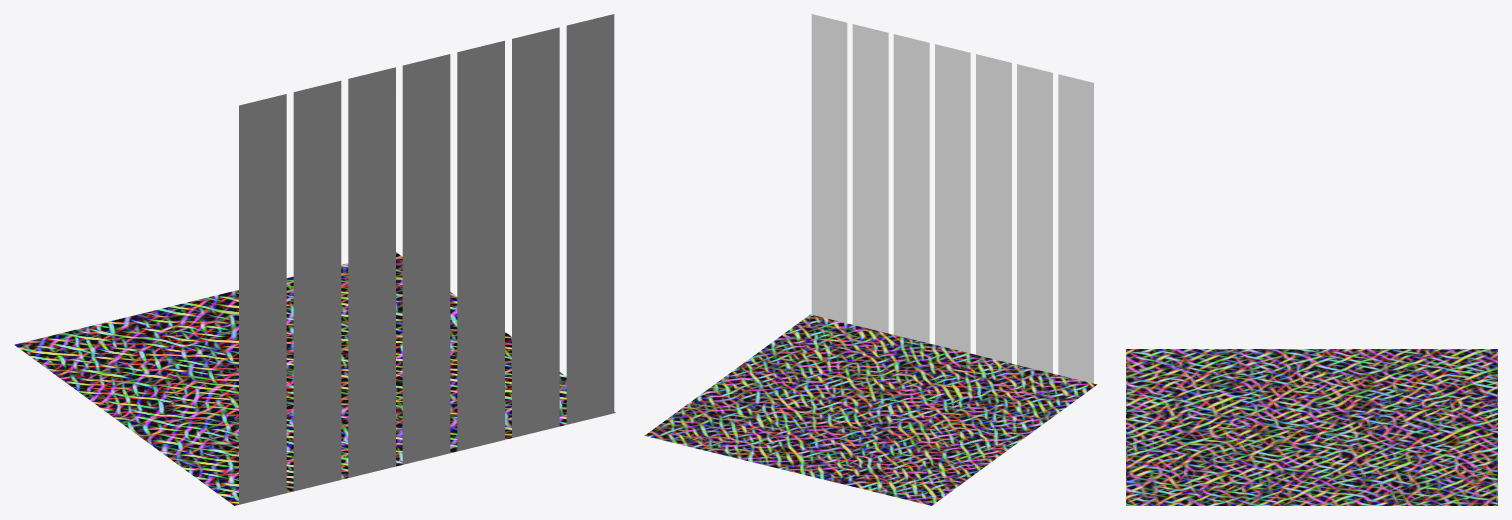
The model's file is glossy_planes.obj.
The picture shows the model from 3 angles, left to right: view 1: azimuth 30°, elevation 25°; view 2: azimuth 150°, elevation 25°; view 3: azimuth 270°, elevation 25°; orthographic projection. The views are drawn at different scales.
Visible parts, largest first — view 1: Floor_Plane, Plane0_Plane.002, Plane3_Plane.007, Plane5_Plane.010, Plane4_Plane.011, Plane2_Plane.006, Plane6_Plane.009, Plane1_Plane.004; view 2: Floor_Plane, Plane1_Plane.004, Plane2_Plane.006, Plane0_Plane.002, Plane3_Plane.007, Plane4_Plane.011, Plane5_Plane.010, Plane6_Plane.009; view 3: Floor_Plane.
Boxes of the visible parts, <box> form: Floor_Plane: <box>14,252,615,505</box>; Plane0_Plane.002: <box>566,14,614,424</box>; Plane3_Plane.007: <box>402,54,450,464</box>; Plane5_Plane.010: <box>293,80,341,491</box>; Plane4_Plane.011: <box>348,67,395,477</box>; Plane2_Plane.006: <box>457,40,504,451</box>; Plane6_Plane.009: <box>239,94,286,504</box>; Plane1_Plane.004: <box>512,27,559,437</box>; Floor_Plane: <box>644,314,1097,505</box>; Plane1_Plane.004: <box>852,24,888,333</box>; Plane2_Plane.006: <box>893,34,929,343</box>; Plane0_Plane.002: <box>811,14,847,323</box>; Plane3_Plane.007: <box>935,44,970,353</box>; Plane4_Plane.011: <box>976,54,1011,363</box>; Plane5_Plane.010: <box>1017,64,1052,373</box>; Plane6_Plane.009: <box>1058,74,1093,383</box>; Floor_Plane: <box>1126,349,1497,505</box>.
Size of the model in its own units: 8 by 8 by 8.
